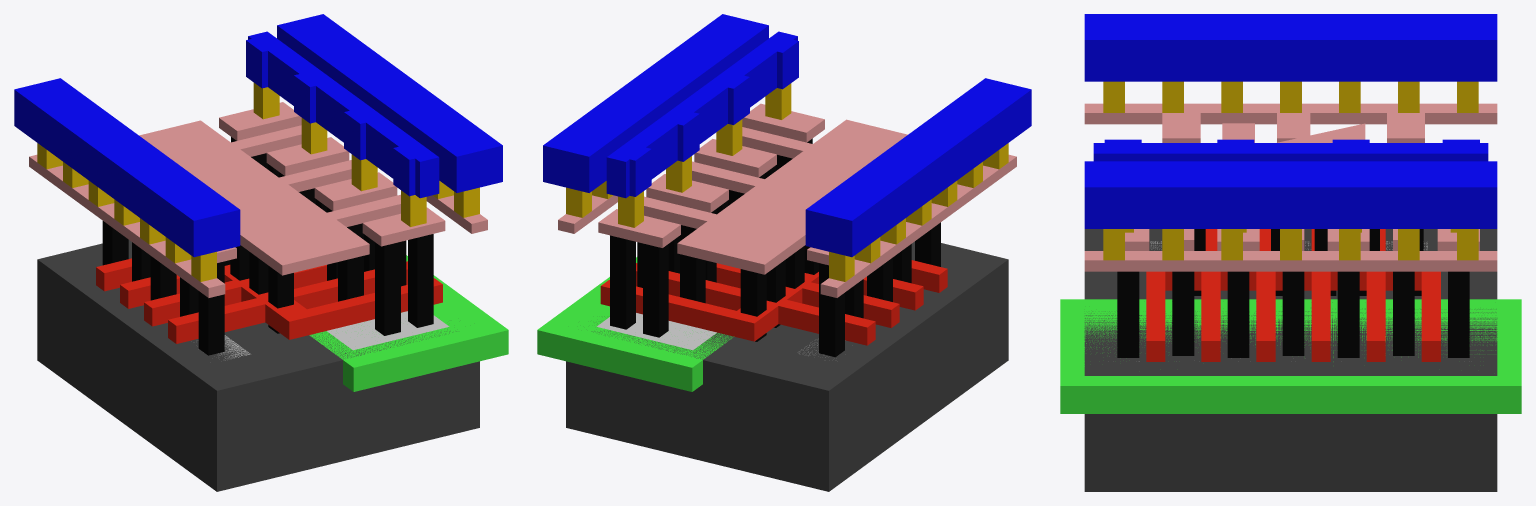
Rendered from sky130_fd_sc_hd__lpflow_clkinvkapwr_4.obj.
The picture shows the model from 3 angles, left to right: view 1: azimuth 30°, elevation 25°; view 2: azimuth 150°, elevation 25°; view 3: azimuth 270°, elevation 25°; orthographic projection. The views are drawn at different scales.
Parts seen in each view (by area): view 1: subs, metal1, li, licon, poly, nwell, mcon, tap; view 2: subs, metal1, li, licon, poly, nwell, mcon, tap; view 3: metal1, subs, nwell, li, licon, poly, mcon.
Boxes of the visible parts, x1=… form: subs: x1=37, y1=240, x2=479, y2=491; metal1: x1=14, y1=14, x2=502, y2=257; li: x1=29, y1=102, x2=487, y2=297; licon: x1=102, y1=137, x2=433, y2=355; poly: x1=96, y1=258, x2=442, y2=343; nwell: x1=309, y1=255, x2=508, y2=391; mcon: x1=37, y1=82, x2=479, y2=281; tap: x1=327, y1=311, x2=449, y2=350; subs: x1=566, y1=241, x2=1008, y2=491; metal1: x1=543, y1=14, x2=1031, y2=257; li: x1=558, y1=103, x2=1016, y2=297; licon: x1=610, y1=138, x2=940, y2=357; poly: x1=600, y1=260, x2=947, y2=345; nwell: x1=537, y1=257, x2=734, y2=391; mcon: x1=566, y1=83, x2=1008, y2=281; tap: x1=596, y1=313, x2=716, y2=350; metal1: x1=1084, y1=14, x2=1497, y2=228; subs: x1=1084, y1=229, x2=1497, y2=491; nwell: x1=1060, y1=299, x2=1521, y2=413; li: x1=1084, y1=103, x2=1497, y2=271; licon: x1=1117, y1=229, x2=1469, y2=357; poly: x1=1146, y1=229, x2=1440, y2=361; mcon: x1=1103, y1=81, x2=1478, y2=260.
Bounding box in the file's own units: 3.2 × 2.74 × 3.6.
